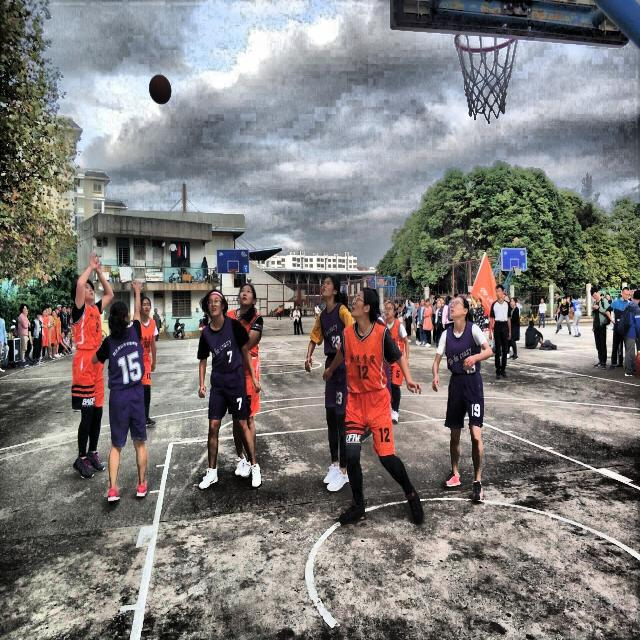board: (150, 74, 171, 104)
rim: (455, 31, 519, 117)
